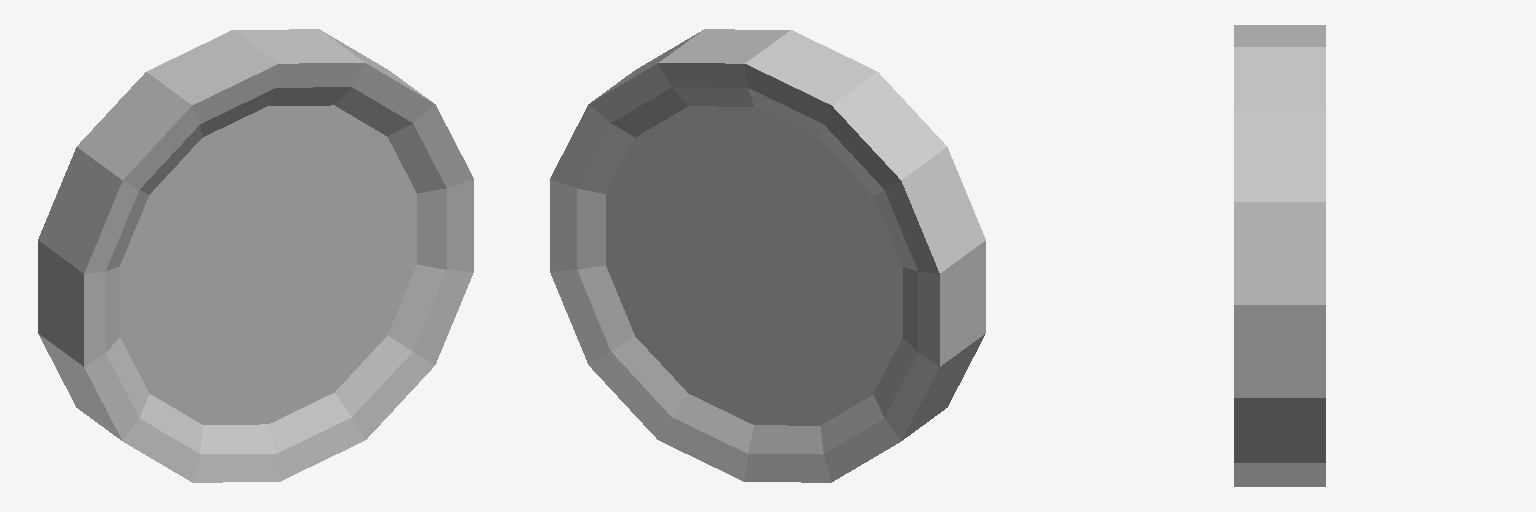
The model's file is coin.obj.
3 views of the same model, side by side, from view 1: azimuth 30°, elevation 25°; view 2: azimuth 150°, elevation 25°; view 3: azimuth 270°, elevation 25° (orthographic).
Visible parts, largest first — view 1: Circle; view 2: Circle; view 3: Circle.
Boxes of the visible parts, x1,y1,x2,y2 form: Circle: [38, 29, 473, 482]; Circle: [550, 29, 985, 482]; Circle: [1234, 25, 1325, 486].
Bounding box in the file's own units: 1.95 × 2 × 0.4.